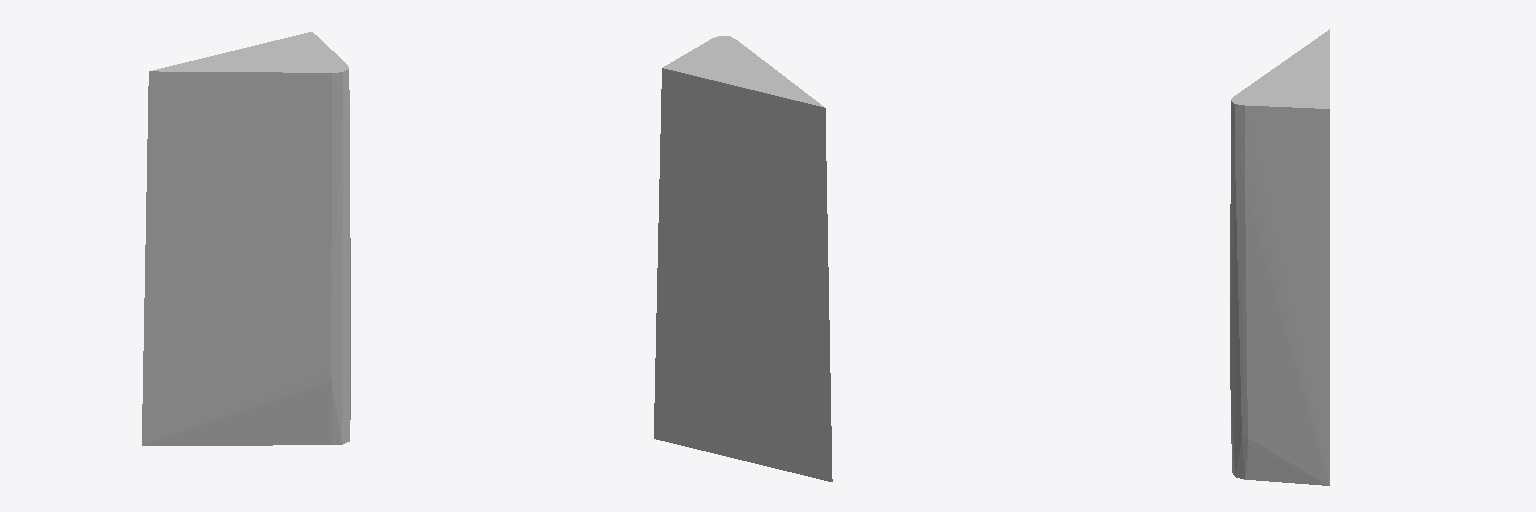
The model's file is box_long_brown_M_collision_10.obj.
3 views of the same model, side by side, from view 1: azimuth 30°, elevation 25°; view 2: azimuth 150°, elevation 25°; view 3: azimuth 270°, elevation 25° (orthographic).
Size of the model in its own units: 0.0227 by 0.0452 by 0.0109.